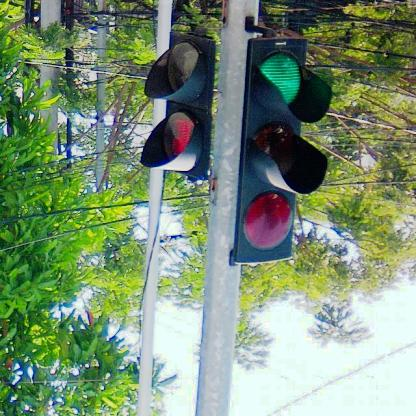Traffic Light -Green-: (233, 36, 332, 268)
